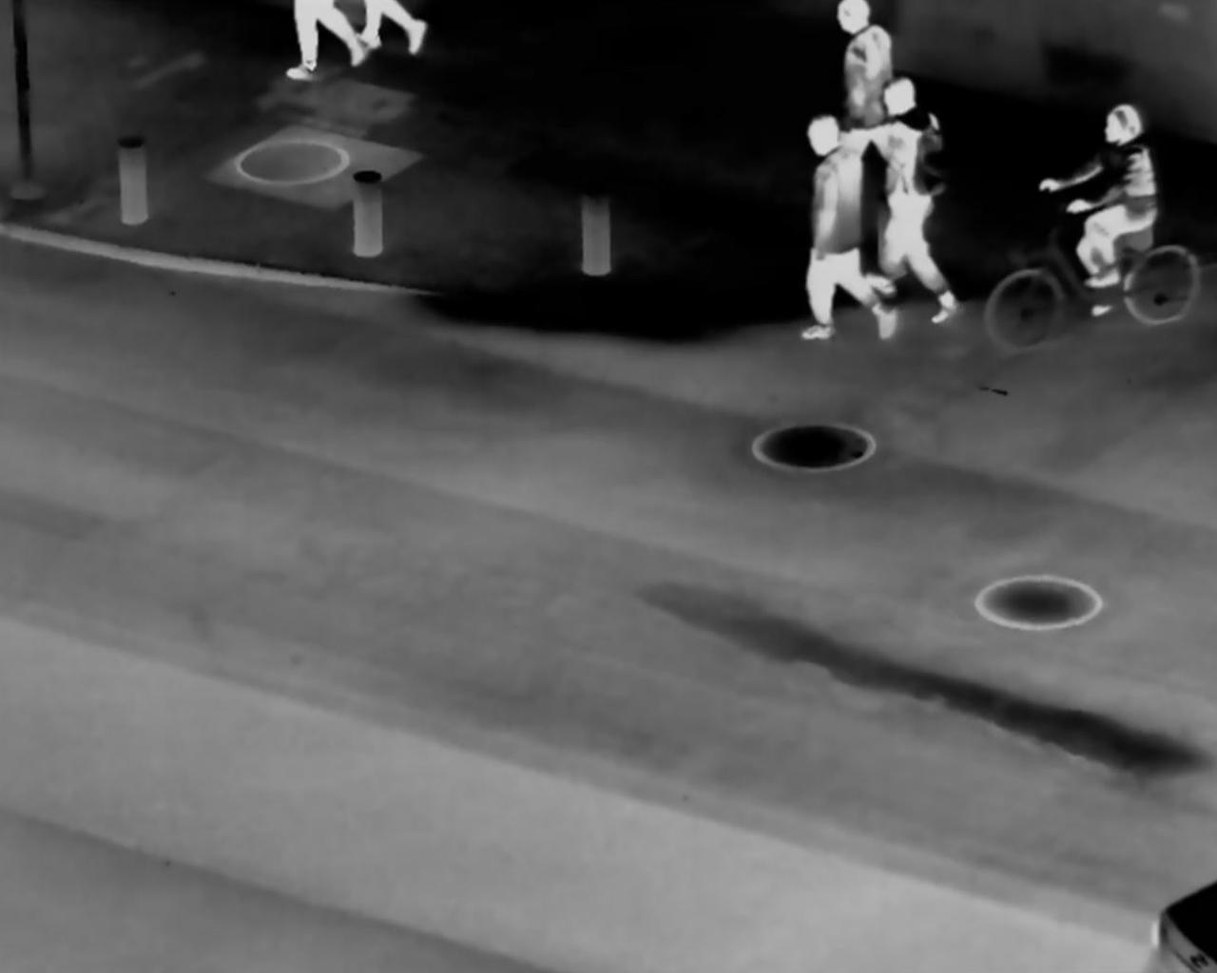person: (1043, 94, 1160, 289), (869, 82, 956, 330), (790, 106, 881, 343), (289, 2, 360, 76)
